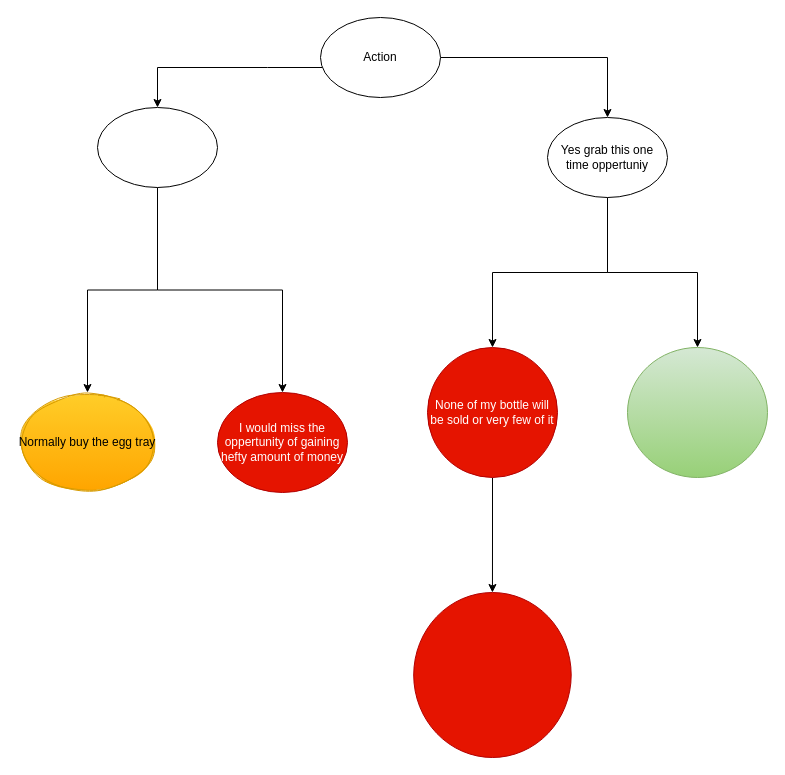
This 785x775 diagram has some shape labels left out. Here are the shapes that lost their labels. From the top down, the box of each, then its label:
(96, 106, 218, 188): no you should not
(626, 346, 768, 478): I would get a lot of money
(413, 592, 571, 758): I cannot buy any more egg tray
